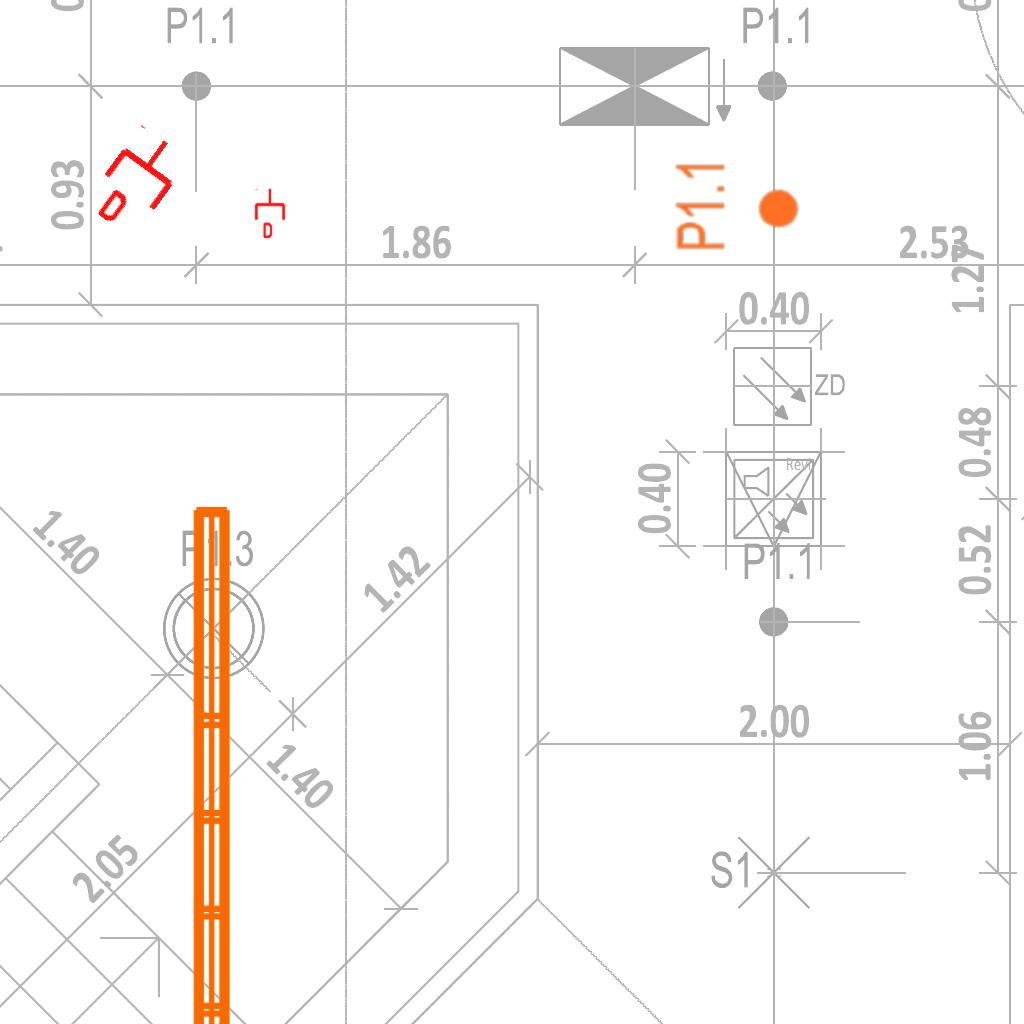Ambulanz_Pendelleuchte_LED: (181, 496, 293, 1024)
Datenanschluss_einfach: (80, 120, 195, 242), (253, 188, 287, 238)
Downlight_LED_Einbauleuchten_Flur: (673, 159, 801, 252)
